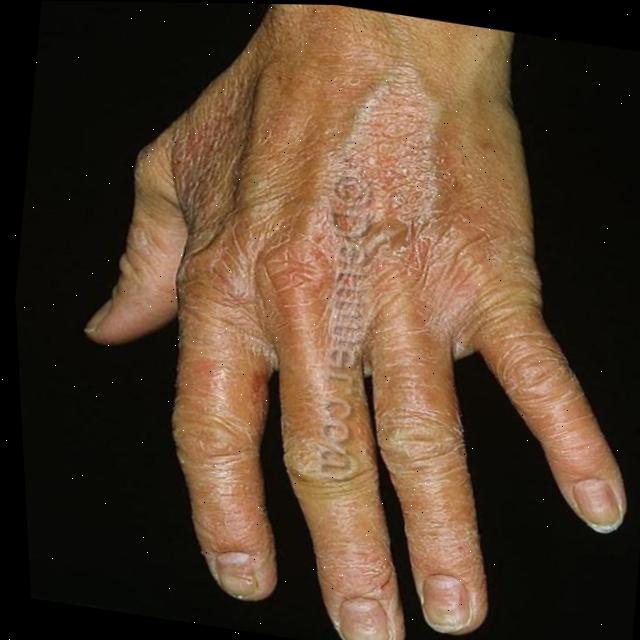Eczema: (159, 81, 595, 517)
